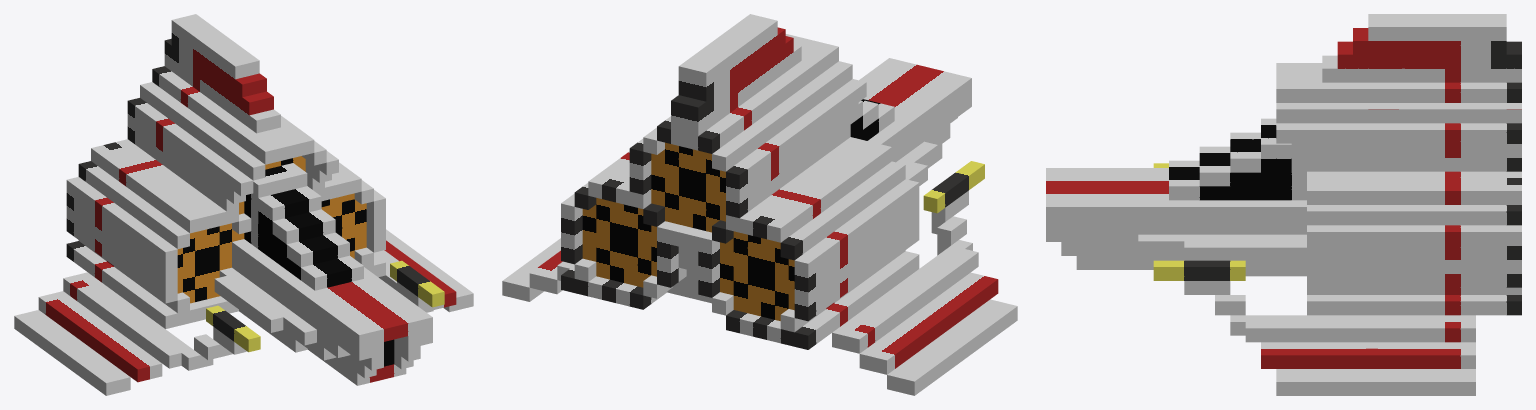
Rendered from SaiuDoBlender.glb.
3 renders of one model, left to right at view 1: azimuth 30°, elevation 25°; view 2: azimuth 150°, elevation 25°; view 3: azimuth 270°, elevation 25°, orthographic. The views are drawn at different scales.
Visible parts, largest first — view 1: SaffiraNave-Mesh; view 2: SaffiraNave-Mesh; view 3: SaffiraNave-Mesh.
Part boxes in pixels (x1,y1,x2,y2): SaffiraNave-Mesh: (14, 14, 473, 395); SaffiraNave-Mesh: (502, 14, 1017, 395); SaffiraNave-Mesh: (1046, 14, 1521, 395).
Size of the model in its own units: 30 by 20 by 31.
Materials: 1 (1 with a texture image).
